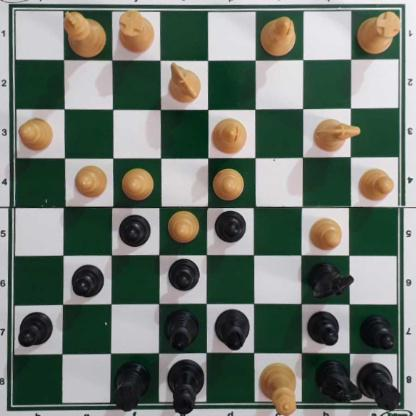black-bishop: (214, 310, 251, 351), (163, 311, 200, 351)
black-king: (166, 359, 204, 415)
black-knight: (314, 361, 363, 404), (310, 263, 351, 301)
black-pawn: (17, 312, 54, 349), (360, 317, 395, 352), (167, 260, 201, 296), (70, 265, 104, 300), (309, 312, 340, 349), (214, 212, 247, 246), (119, 215, 151, 250)
black-rook: (354, 362, 403, 413), (112, 362, 152, 411)
white-bishop: (262, 16, 297, 58), (212, 120, 248, 155)
white-king: (64, 10, 107, 60)
white-knight: (312, 118, 362, 153), (166, 63, 202, 105)
white-pawn: (19, 117, 56, 154), (359, 169, 396, 204), (74, 165, 108, 203), (309, 218, 343, 253), (167, 213, 203, 245), (122, 169, 155, 203), (213, 169, 245, 203)
white-queen: (260, 360, 297, 415)
white-rook: (356, 13, 402, 56), (117, 11, 155, 53)
